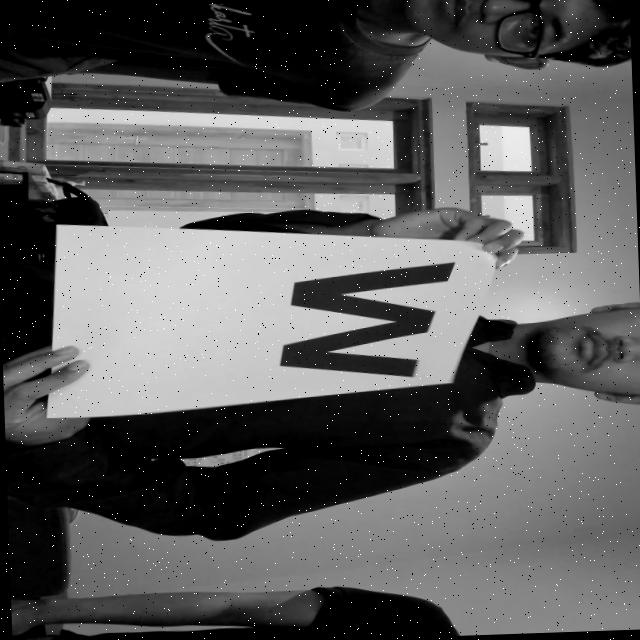w: (250, 252, 474, 387)
